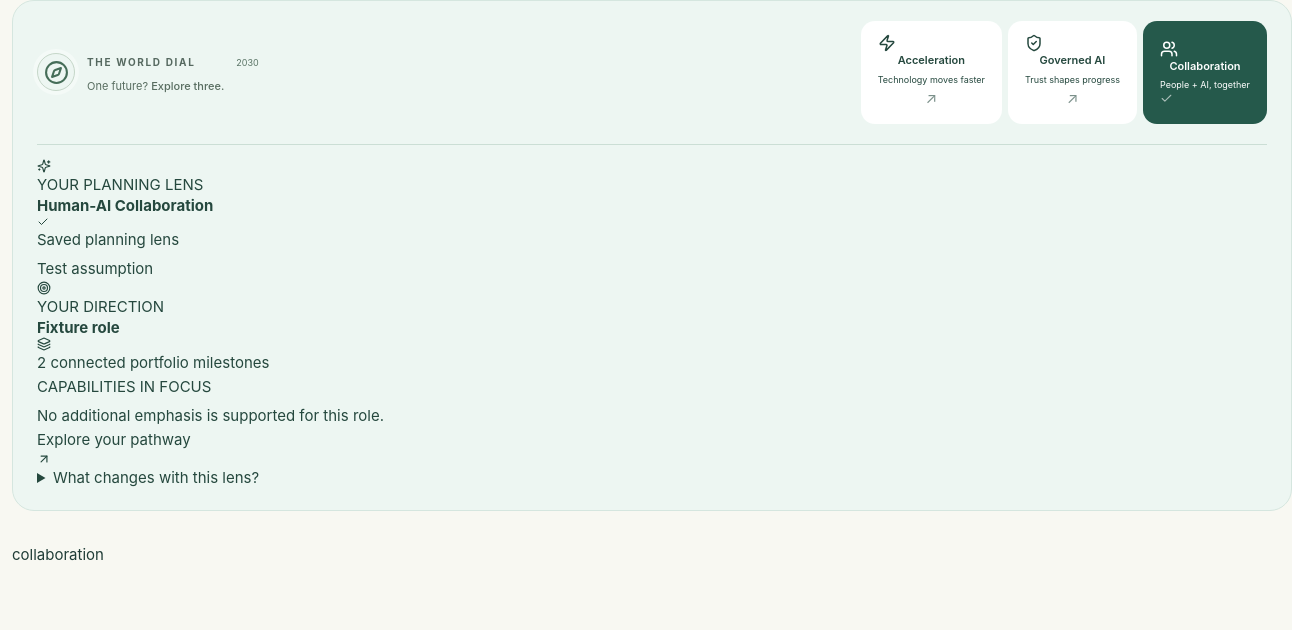
Test: Future workspace interactions › restores the previous world when persistence fails
This screenshot has width=1292, height=630.
Click the button with aria-label "AI Acceleration" at {"x": 931, "y": 72}, box [861,21,1002,124]
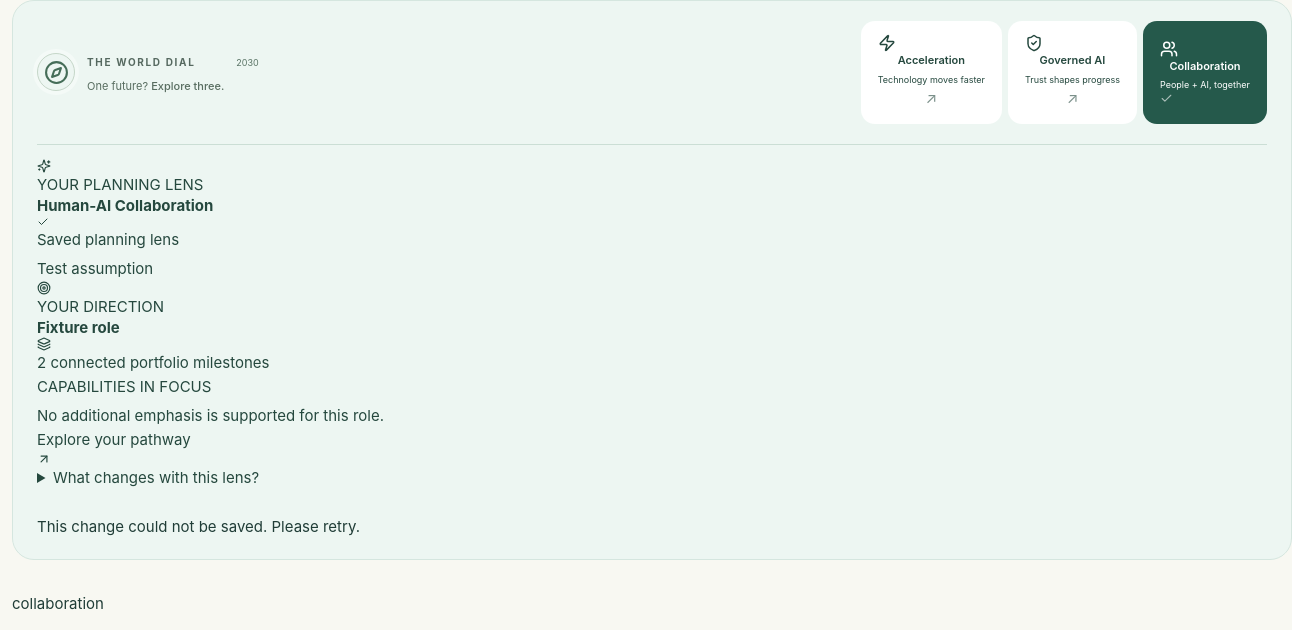
Expected: the text "collaboration" is shown, [12,594,104,614]
Result: the message "This change could not be saved. Please retry." is shown at [37,516,360,540]
